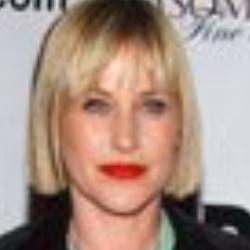face: (14, 1, 212, 213)
